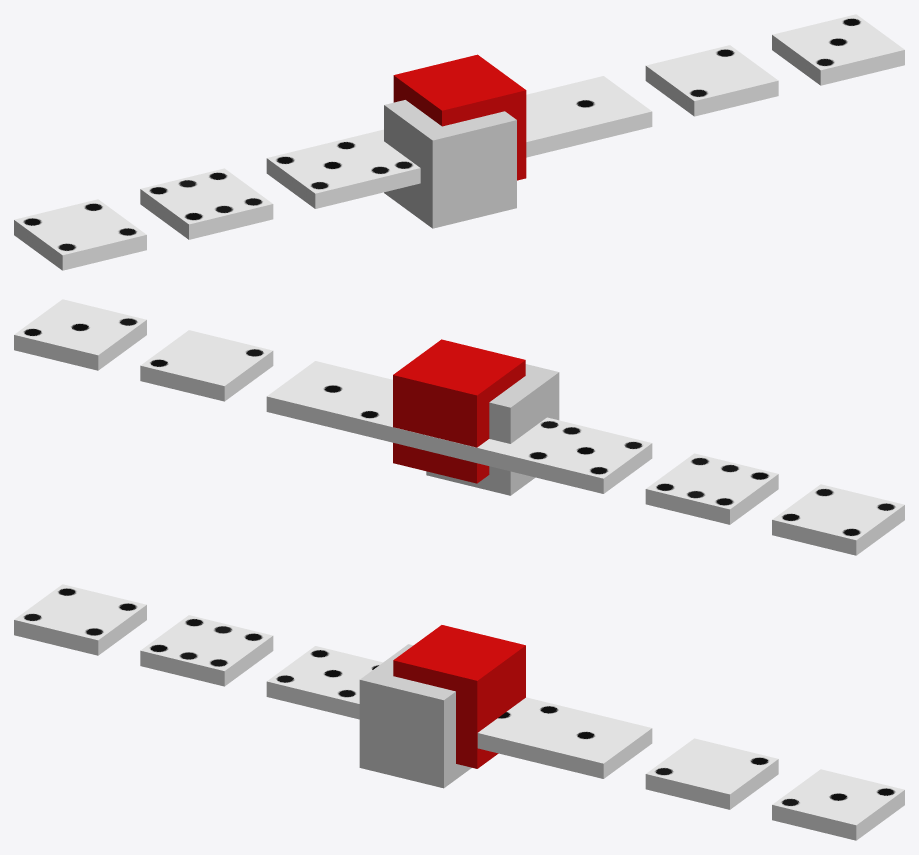
3 views of the same model, one above another, from view 1: azimuth 30°, elevation 25°; view 2: azimuth 150°, elevation 25°; view 3: azimuth 330°, elevation 25° (orthographic).
Visible parts, largest first — view 1: Cube, Cube.001, Dom.010, Dom.101, Dom.303, Dom.212, Dom.202, Dom.111, Dom.010_low_2; view 2: Cube.001, Dom.010, Dom.101, Dom.303, Dom.212, Dom.202, Dom.111, Cube, Dom.010_low_2; view 3: Cube, Cube.001, Dom.010, Dom.101, Dom.303, Dom.202, Dom.111, Dom.212.
Boxes of the visible parts, x1,y1,x2,y2 form: Cube: (384,100,516,228); Cube.001: (393,54,526,180); Dom.010: (526,76,652,157); Dom.101: (645,45,778,116); Dom.303: (140,168,273,239); Dom.212: (266,137,399,208); Dom.202: (14,199,146,270); Dom.111: (772,14,904,85); Dom.010_low_2: (351,129,420,188); Cube.001: (393,339,525,483); Dom.010: (266,361,435,452); Dom.101: (140,330,273,401); Dom.303: (645,453,778,524); Dom.212: (519,422,652,493); Dom.202: (772,484,904,555); Dom.111: (14,299,146,370); Cube: (426,364,559,495); Dom.010_low_2: (435,417,567,473); Cube: (359,644,471,788); Cube.001: (393,625,525,768); Dom.010: (477,697,652,778); Dom.101: (645,738,778,809); Dom.303: (140,615,273,686); Dom.202: (14,584,146,655); Dom.111: (772,769,904,840); Dom.212: (266,646,382,717).
Bounding box in the file's own units: 20 × 2.36 × 2.5.
8 materials, 6 textured.
